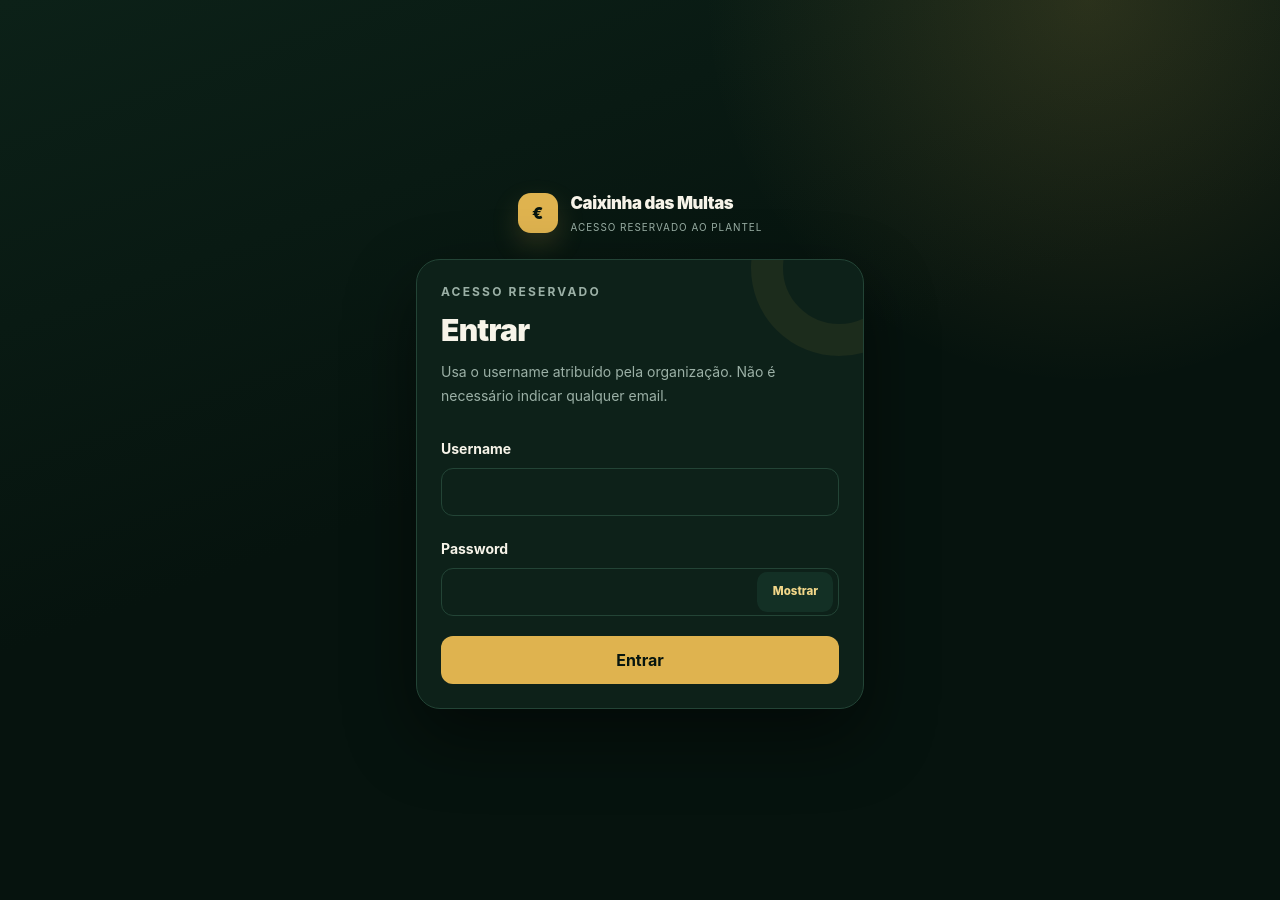
Test case: autenticação e rotas da aplicação › não permite enumerar contas através do erro de login
Expected: the heading "Entrar" is shown, [441,312,530,348]
Type "desconhecido" into the field labelled "Username" at (640, 492), box [441,468,839,516]
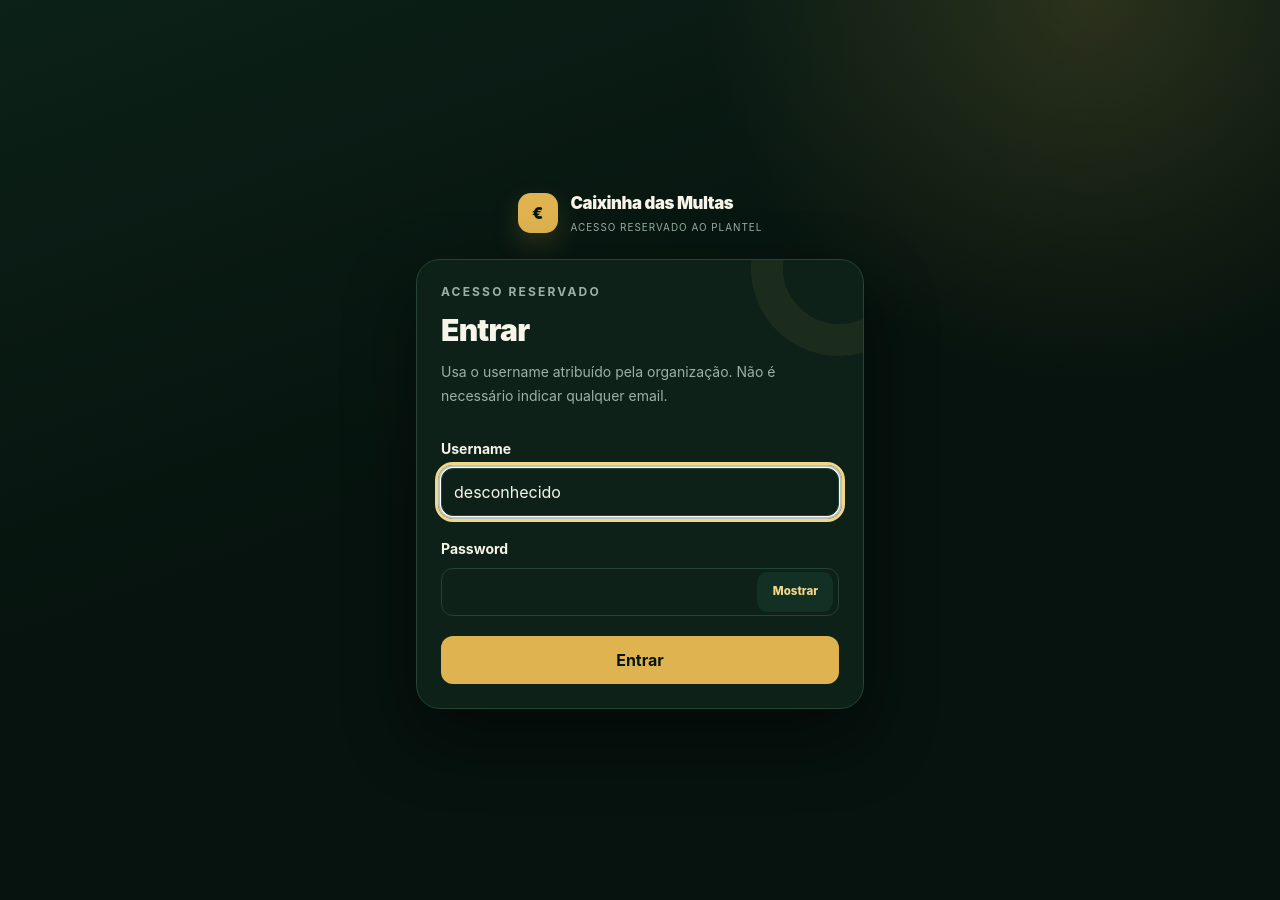
Type "Errada1" into the password field labelled "Password" at (640, 592), box [441,568,839,616]
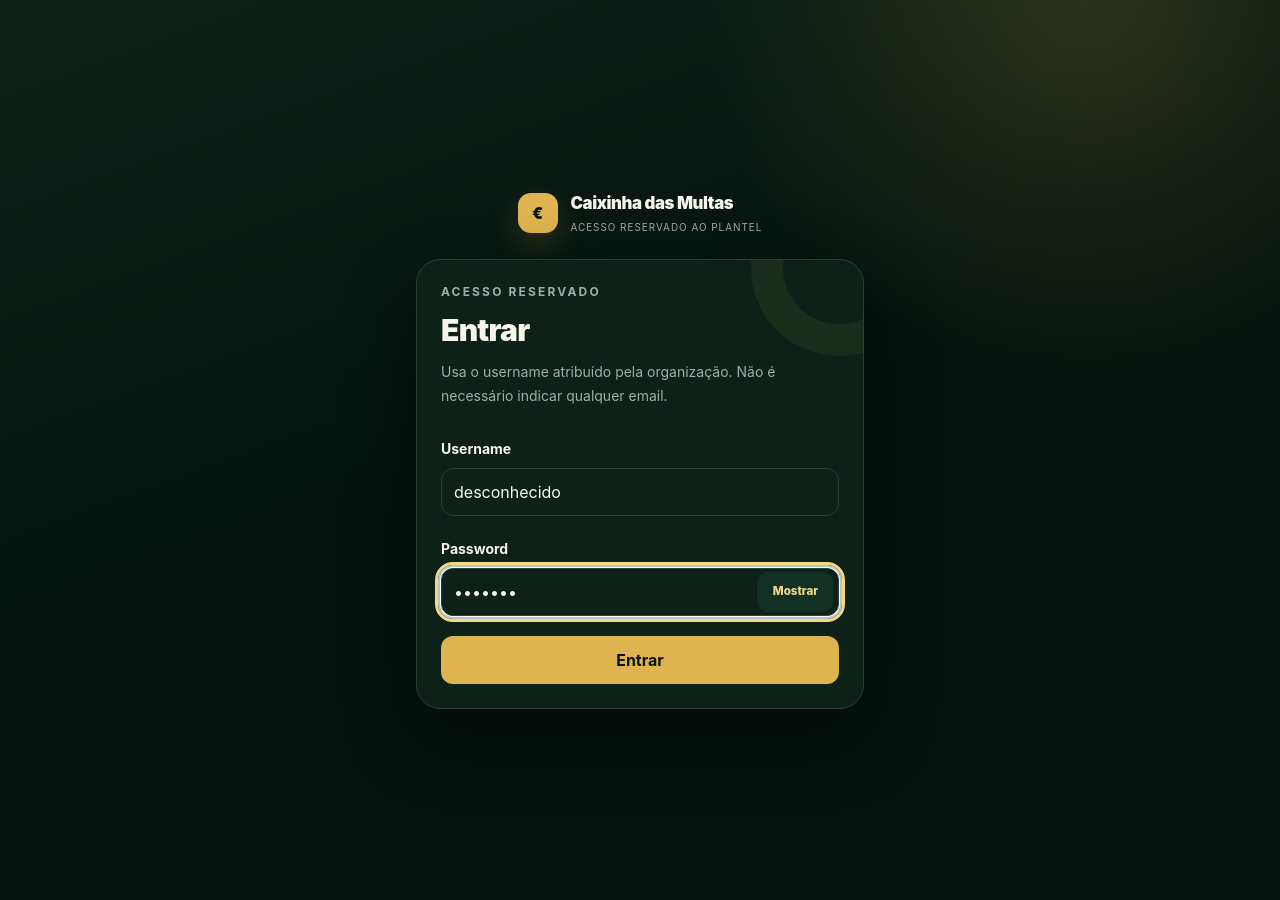
Click the button "Entrar" at (640, 660), box [441,636,839,684]
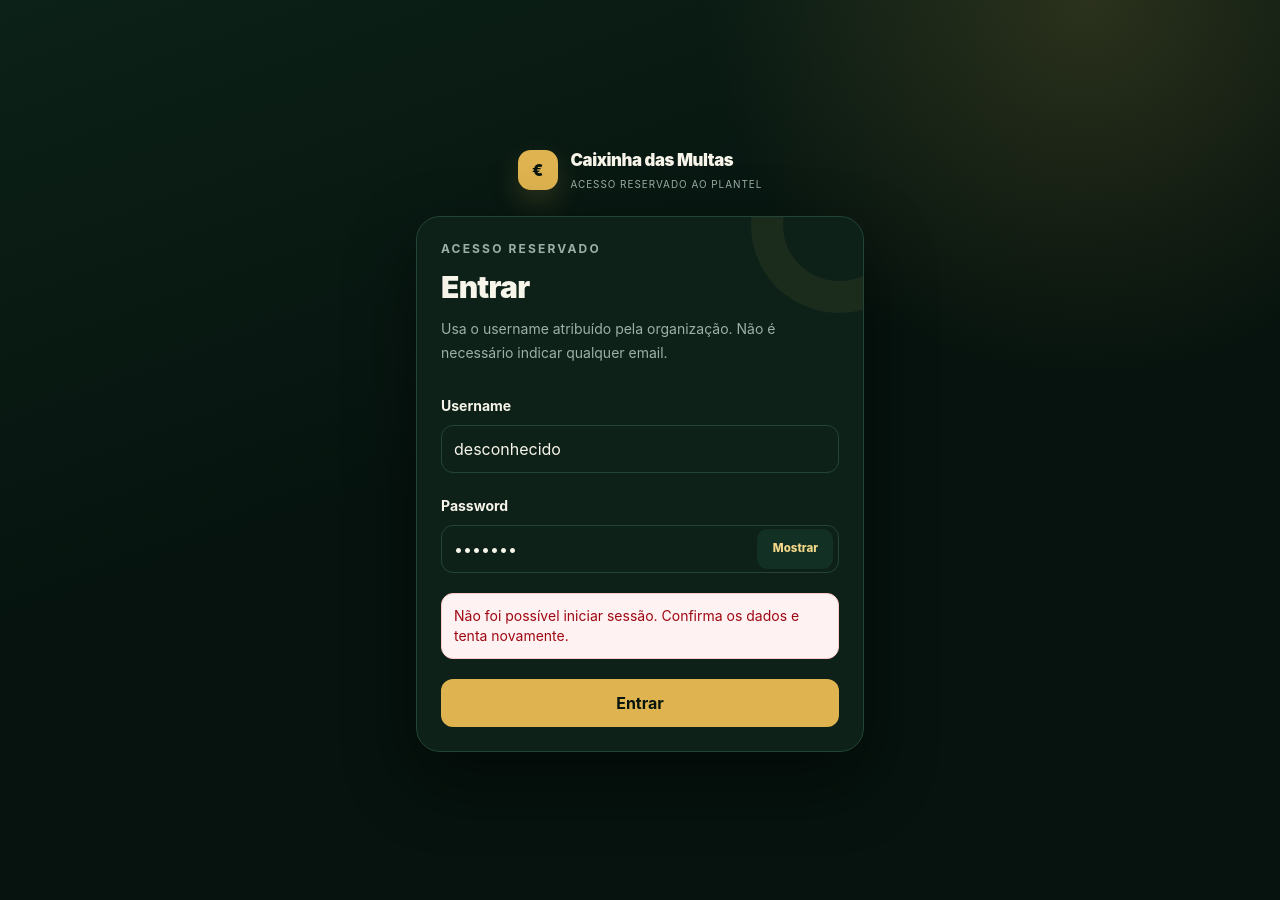
Expected: the button "Entrar" is enabled, [441,679,839,727]
Expected: the message reads "Não foi possível iniciar sessão. Confirma os dados e tenta novamente.", [454,607,799,644]
